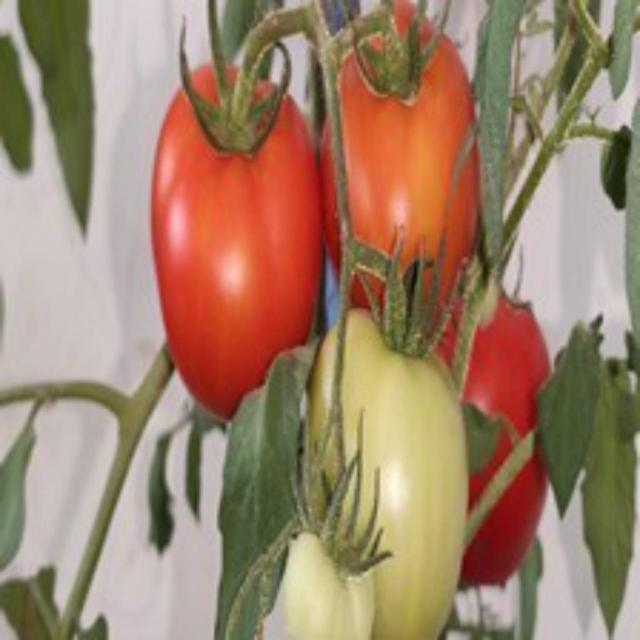tomato: (152, 48, 337, 422), (319, 0, 496, 336)
